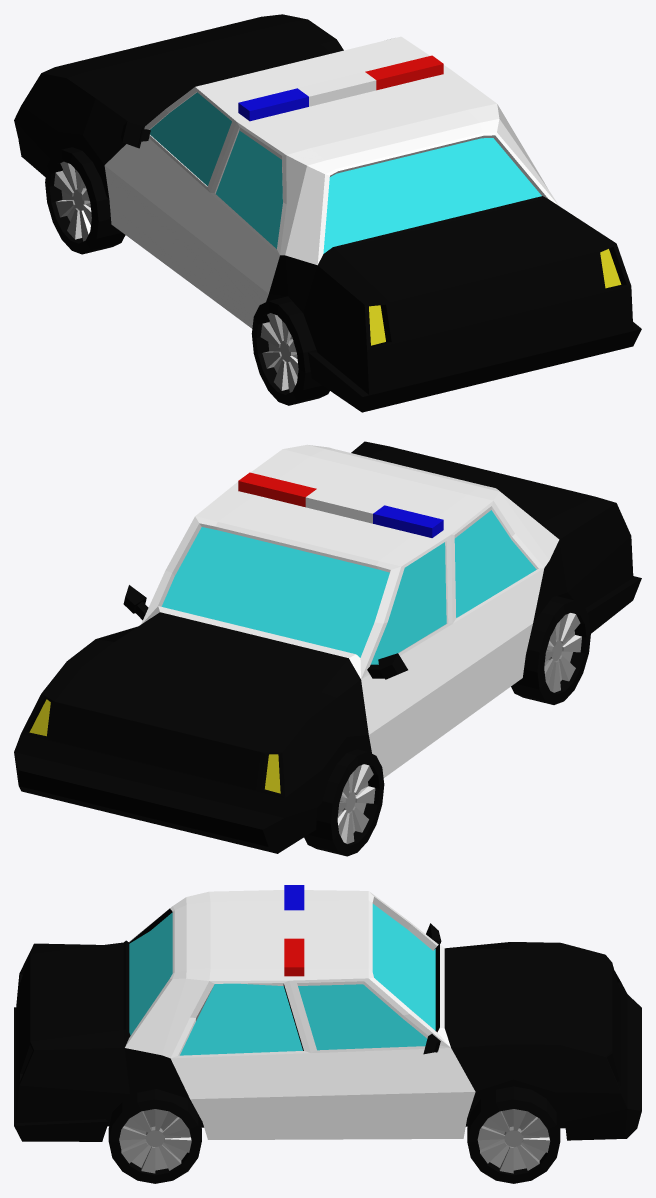
File: PoliceCar.fbx
3 views of the same model, one above another, from view 1: azimuth 30°, elevation 25°; view 2: azimuth 150°, elevation 25°; view 3: azimuth 270°, elevation 25° (orthographic). The views are drawn at different scales.
Parts seen in each view (by area): view 1: Body, Wheel.001, Wheel.002, LightBox, MirrorLeft; view 2: Body, Wheel.002, Wheel.001, LightBox, MirrorLeft; view 3: Body, Wheel.004, Wheel.003, LightBox.
Part boxes in pixels (x1,y1,x2,y2): Body: [14, 14, 641, 412]; Wheel.001: [45, 147, 125, 254]; Wheel.002: [251, 296, 329, 405]; LightBox: [238, 55, 443, 121]; MirrorLeft: [121, 121, 150, 148]; Body: [14, 441, 641, 853]; Wheel.002: [511, 596, 590, 704]; Wheel.001: [304, 749, 384, 856]; LightBox: [238, 472, 443, 537]; MirrorLeft: [367, 653, 407, 679]; Body: [14, 890, 641, 1141]; Wheel.004: [467, 1086, 560, 1183]; Wheel.003: [108, 1089, 201, 1183]; LightBox: [284, 885, 304, 976].
Bounding box in the file's own units: 232 × 171 × 499.
